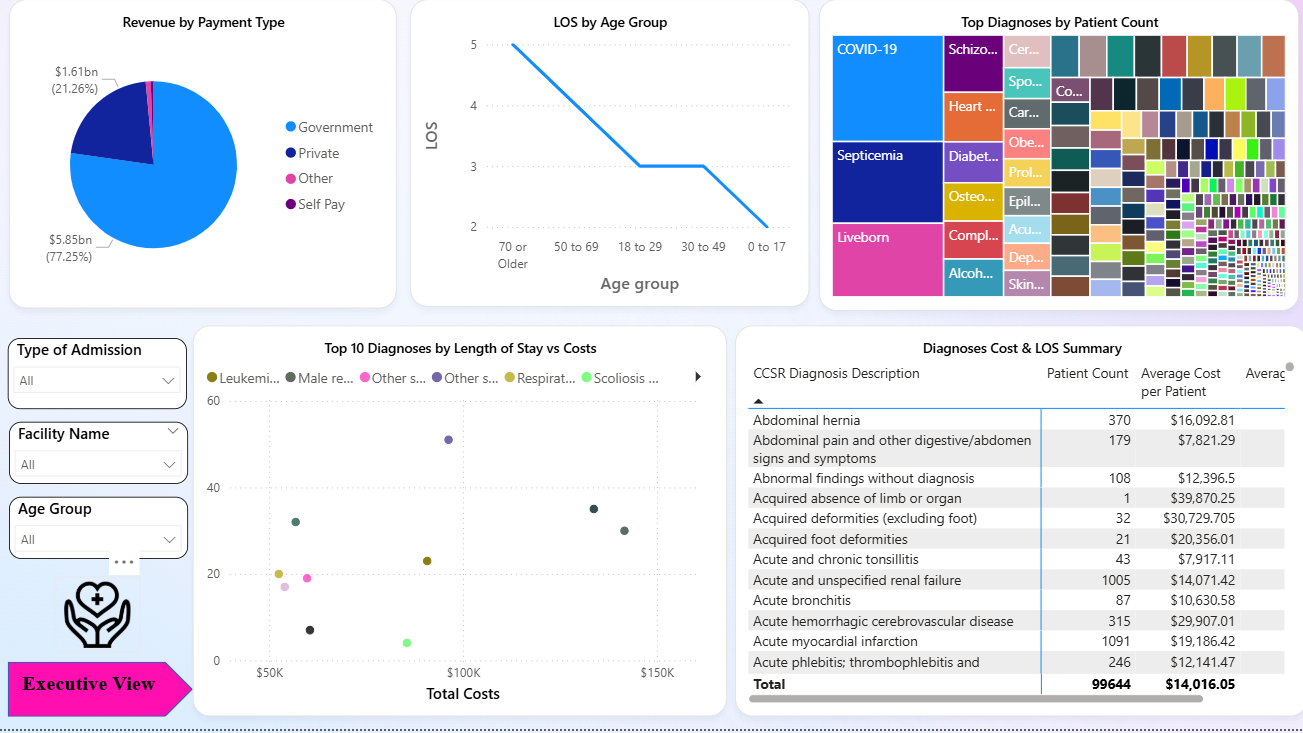

What the dashboard file says about the page in this screenshot:
{"tool":"powerbi","page":{"name":"Cost & Clinical View","canvas":[1280,720],"ordinal":2},"visuals":[{"type":"pivotTable","title":"Diagnoses Cost & LOS Summary","fields":{"Rows":["Hospitalops_cleaned1.CCSR Diagnosis Description"],"Values":["CountNonNull(Hospitalops_cleaned1.CCSR Diagnosis Description)","Hospitalops_cleaned1.Average Cost per Patient","Hospitalops_cleaned1.Average LOS"]},"box":[720.2,325.3,560.1,382.7],"z":0},{"type":"treemap","title":"Top Diagnoses by Patient Count","fields":{"Group":["Hospitalops_cleaned1.CCSR Diagnosis Description"],"Values":["CountNonNull(Hospitalops_cleaned1.CCSR Diagnosis Description)"]},"box":[802.2,6.1,469.6,304.5],"z":1000},{"type":"lineChart","title":"LOS by Age Group","fields":{"Category":["Hospitalops_cleaned1.Age Group"],"Y":["Median(Hospitalops_cleaned1.Length of Stay)"]},"box":[402.3,6.1,390.1,300.8],"z":2000},{"type":"pieChart","title":"Revenue by Payment Type","fields":{"Category":["Hospitalops_cleaned1.Payment Typology 1"],"Y":["Sum(Hospitalops_cleaned1.Total Charges)"]},"box":[9.8,6.1,379.1,302],"z":3000},{"type":"scatterChart","title":"Top 10 Diagnoses by Length of Stay vs Costs","fields":{"X":["Median(Hospitalops_cleaned1.Total Costs)"],"Y":["Median(Hospitalops_cleaned1.Length of Stay)"],"Series":["Hospitalops_cleaned1.CCSR Diagnosis Description"]},"box":[189.5,325.3,522.1,382.7],"z":4000},{"type":"slicer","fields":{"Values":["Hospitalops_cleaned1.Type of Admission"]},"box":[8.6,337.5,174.9,69.7],"z":5000},{"type":"slicer","fields":{"Values":["Hospitalops_cleaned1.Facility Name"]},"box":[9.8,419.4,174.9,61.1],"z":6000},{"type":"slicer","fields":{"Values":["Hospitalops_cleaned1.Age Group"]},"box":[9.8,492.8,174.9,61.1],"z":8000},{"type":"image","box":[55,571.1,83.2,74.6],"z":9000},{"type":"shape","box":[8.6,654.2,181,53.8],"z":9001},{"type":"actionButton","title":"Executive View","box":[9.8,664,156.5,44],"z":9002}]}

Visuals, with their boxes in screenshot pixels (x1, y1, x2, y2), scaled from the page's 1280x720 canvas onto the 1303x733 screenshot:
"Diagnoses Cost & LOS Summary" pivotTable: (left=733, top=331, right=1302, bottom=721)
"Top Diagnoses by Patient Count" treemap: (left=817, top=6, right=1295, bottom=316)
"LOS by Age Group" lineChart: (left=410, top=6, right=807, bottom=312)
"Revenue by Payment Type" pieChart: (left=10, top=6, right=396, bottom=314)
"Top 10 Diagnoses by Length of Stay vs Costs" scatterChart: (left=193, top=331, right=724, bottom=721)
slicer - Hospitalops_cleaned1.Type of Admission: (left=9, top=344, right=187, bottom=415)
slicer - Hospitalops_cleaned1.Facility Name: (left=10, top=427, right=188, bottom=489)
slicer - Hospitalops_cleaned1.Age Group: (left=10, top=502, right=188, bottom=564)
image: (left=56, top=581, right=141, bottom=657)
shape: (left=9, top=666, right=193, bottom=721)
"Executive View" actionButton: (left=10, top=676, right=169, bottom=721)
